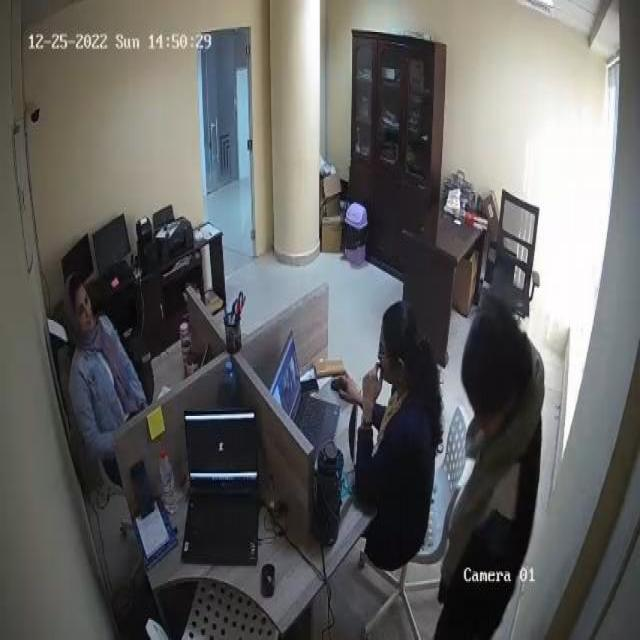bare_hand: (359, 355, 385, 423), (336, 362, 361, 404)
